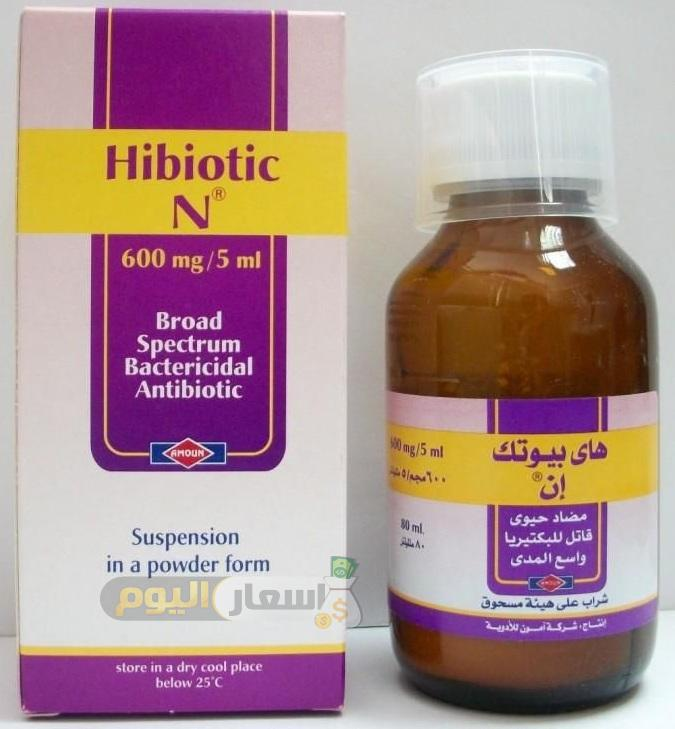Medicine: (12, 4, 350, 724), (376, 48, 664, 708)
